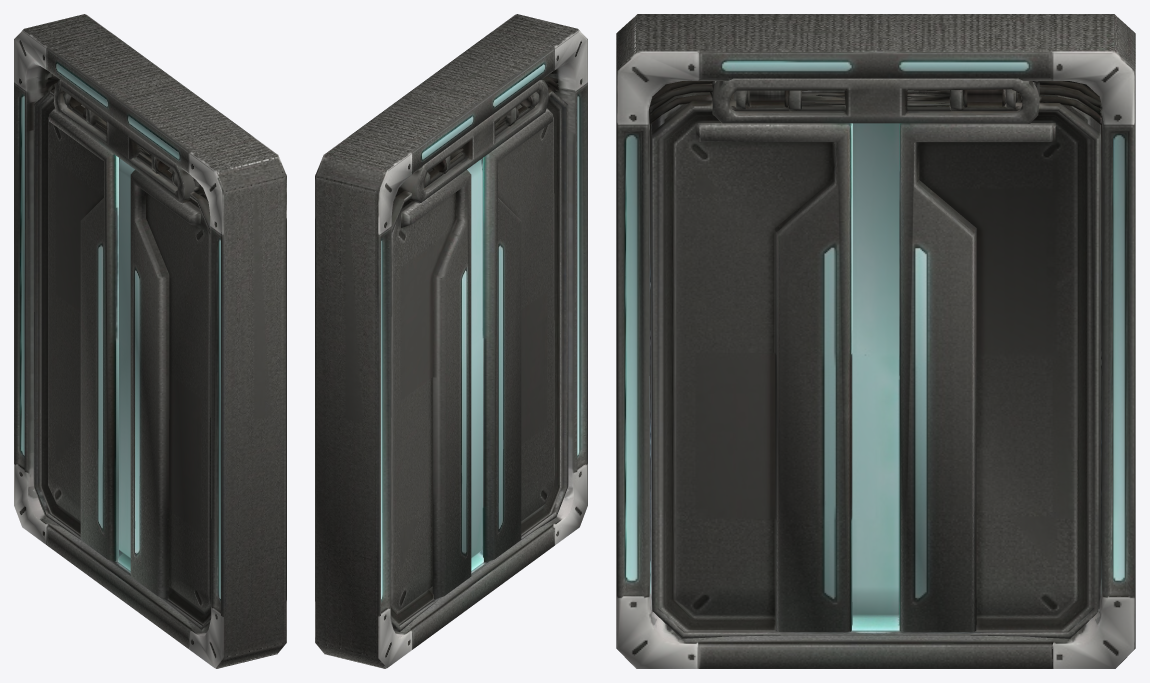
File: tripo_convert_48066107-7b3e-4531-8730-434500d788e6.fbx
The picture shows the model from 3 angles, left to right: view 1: azimuth 30°, elevation 25°; view 2: azimuth 150°, elevation 25°; view 3: azimuth 270°, elevation 25°; orthographic projection. The views are drawn at different scales.
Visible parts, largest first — view 1: tripo_node_48066107; view 2: tripo_node_48066107; view 3: tripo_node_48066107.
Boxes of the visible parts, <box> form: tripo_node_48066107: <box>14,14,286,668</box>; tripo_node_48066107: <box>315,14,587,668</box>; tripo_node_48066107: <box>616,14,1135,668</box>.
Size of the model in its own units: 0.1348 by 0.998 by 0.7598.
Materials: 1 (1 with a texture image).
